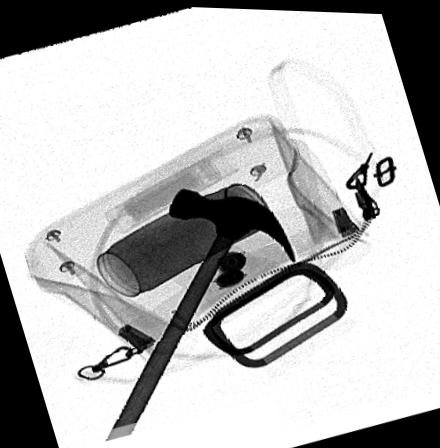Hammer: (102, 186, 294, 439)
